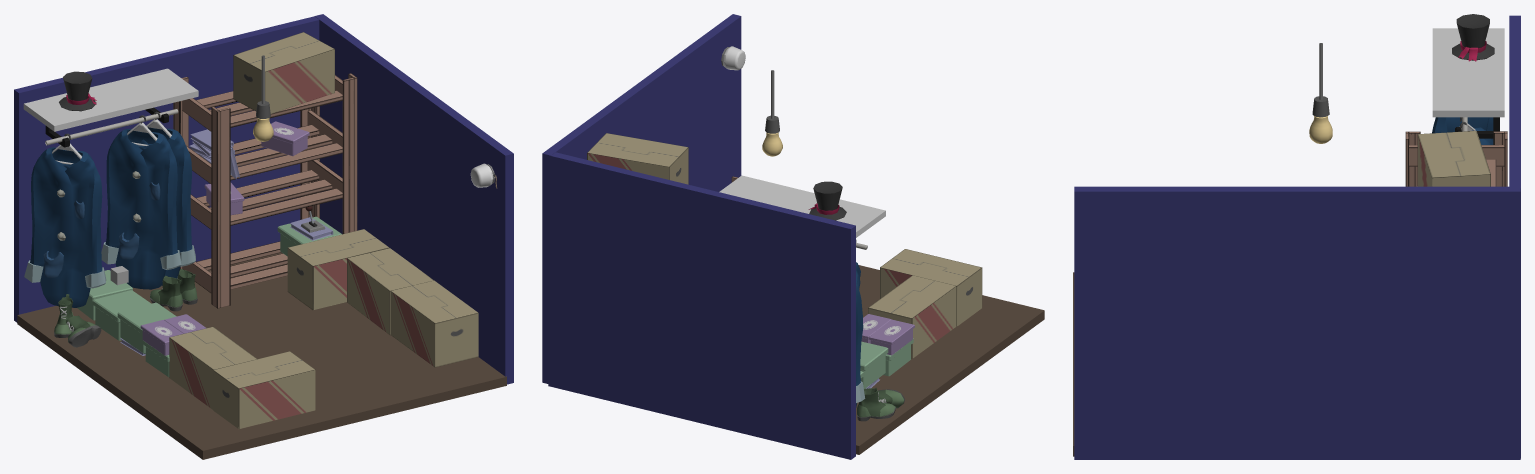
File: Level[PadsNWalls]Closet.fbx
The picture shows the model from 3 angles, left to right: view 1: azimuth 30°, elevation 25°; view 2: azimuth 150°, elevation 25°; view 3: azimuth 270°, elevation 25°; orthographic projection. The views are drawn at different scales.
Visible parts, largest first — view 1: Wall7, Floor3, Wall8, Jacket1, Jacket2, MovingBox1, MovingBox6, MovingBox4, Shelf1, MovingBox8, polySurface174, MovingBox7 (+28 smaller); view 2: Wall8, Wall7, Floor3, MovingBox5, MovingBox6, MovingBox1, Shelf1, ShoeBox6, Hat1, SmallBox6, ShoeRigh1, Jacket1 (+2 smaller); view 3: Wall7, Shelf1, MovingBox1, Wall8, Hat1, Lamp4, Jacket1, polySurface177, polySurface174, polySurface190.
Boxes of the visible parts, x1,y1,x2,y2 form: Wall7: [314, 14, 513, 384]; Floor3: [17, 252, 506, 459]; Wall8: [14, 16, 319, 322]; Jacket1: [24, 147, 106, 307]; Jacket2: [101, 129, 181, 289]; MovingBox1: [233, 32, 334, 113]; MovingBox6: [213, 351, 315, 428]; MovingBox4: [390, 280, 478, 367]; Shelf1: [23, 68, 198, 147]; MovingBox8: [287, 229, 389, 310]; polySurface174: [211, 106, 230, 308]; MovingBox7: [347, 248, 433, 334]; Wall8: [548, 152, 855, 459]; Wall7: [542, 14, 741, 383]; Floor3: [856, 265, 1044, 454]; MovingBox5: [868, 275, 956, 358]; MovingBox6: [880, 249, 982, 326]; MovingBox1: [587, 133, 688, 184]; Shelf1: [719, 175, 885, 249]; ShoeBox6: [861, 314, 914, 355]; Hat1: [808, 181, 846, 220]; SmallBox6: [860, 341, 888, 388]; ShoeRigh1: [857, 387, 896, 421]; Jacket1: [856, 262, 865, 407]; Wall7: [1074, 186, 1520, 459]; Shelf1: [1432, 28, 1504, 138]; MovingBox1: [1417, 130, 1490, 186]; Wall8: [1509, 15, 1520, 458]; Hat1: [1452, 14, 1494, 61]; Lamp4: [1309, 43, 1332, 143]; Jacket1: [1432, 117, 1493, 141]; polySurface177: [1409, 145, 1504, 166]; polySurface174: [1405, 131, 1420, 186]; polySurface190: [1493, 131, 1507, 186].
Size of the model in its own units: 27.43 by 24.14 by 29.18.
